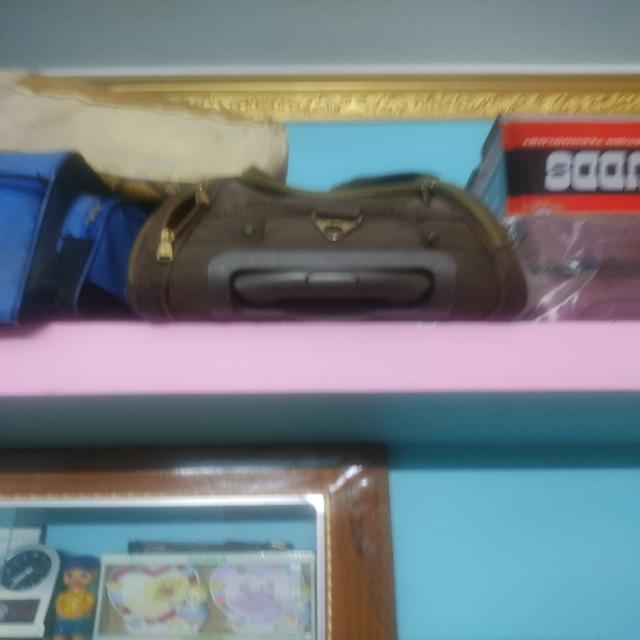suitcaserotation: (118, 158, 533, 326)
